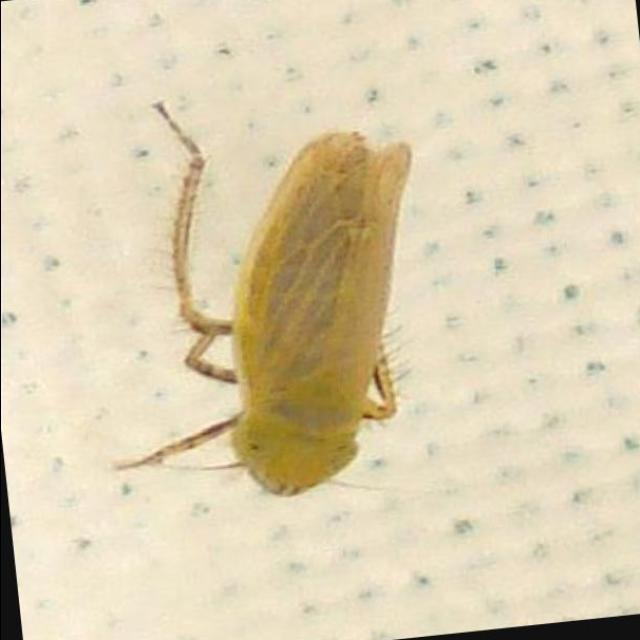green leaf hopper: (113, 106, 409, 496)
